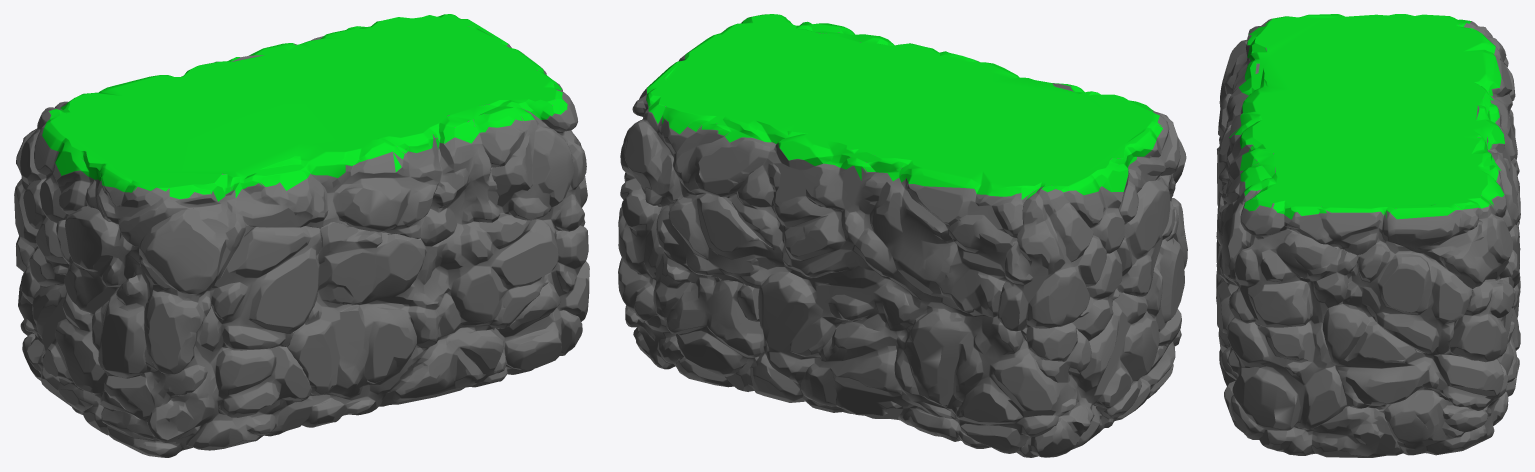
The model's file is cliff-wall.fbx.
The picture shows the model from 3 angles, left to right: view 1: azimuth 30°, elevation 25°; view 2: azimuth 150°, elevation 25°; view 3: azimuth 270°, elevation 25°; orthographic projection. The views are drawn at different scales.
Visible parts, largest first — view 1: Cube.004; view 2: Cube.004; view 3: Cube.004.
Boxes of the visible parts, x1,y1,x2,y2 form: Cube.004: (14, 14, 589, 457); Cube.004: (618, 14, 1187, 457); Cube.004: (1216, 14, 1520, 457).
Size of the model in its own units: 2253 by 1218 by 1333.
